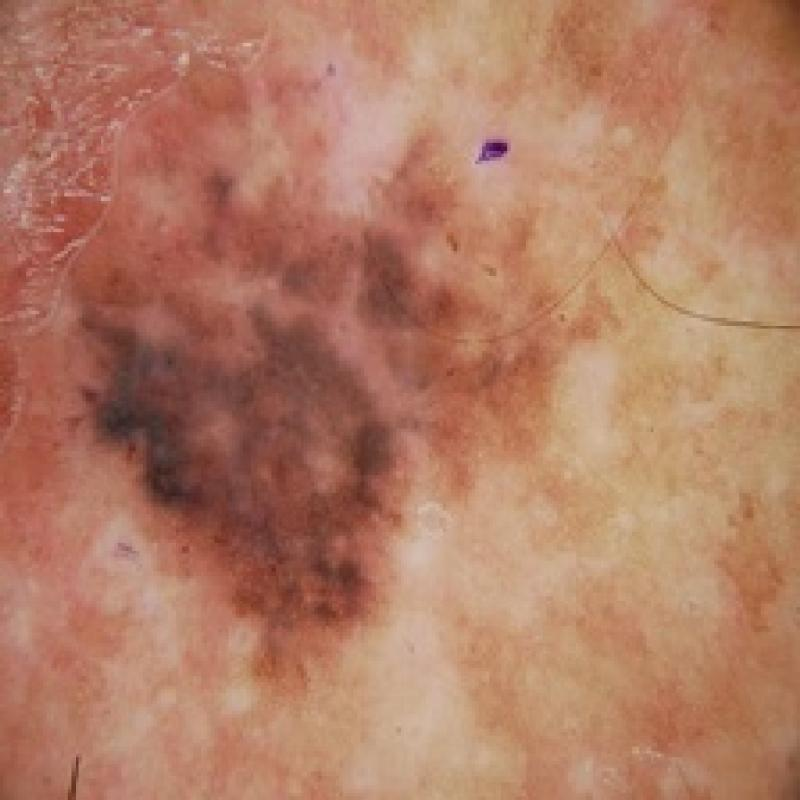malignant: (28, 36, 559, 669)
